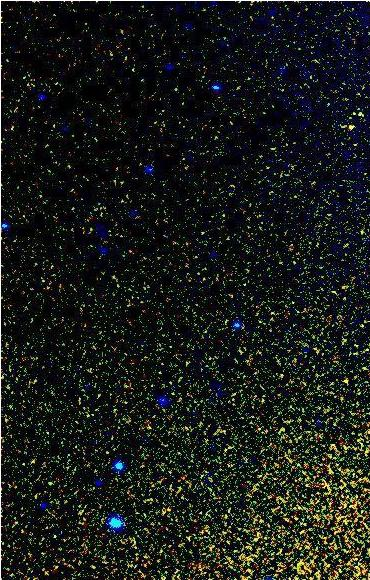star: (336, 116, 366, 146)
